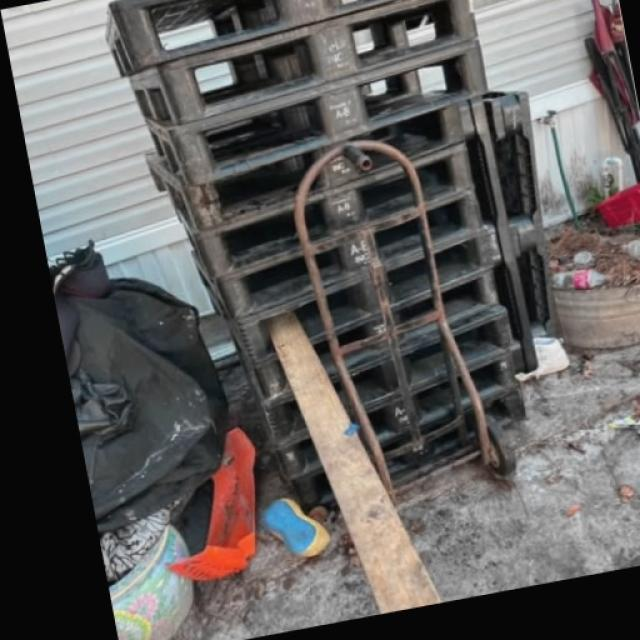non-igps: (138, 32, 496, 195), (169, 138, 482, 291), (122, 0, 486, 131), (140, 94, 473, 237), (251, 297, 523, 452), (225, 222, 500, 374), (211, 179, 489, 328), (266, 335, 532, 487), (243, 268, 509, 410), (281, 381, 539, 522), (98, 0, 461, 83), (447, 86, 544, 382), (473, 77, 570, 346)
